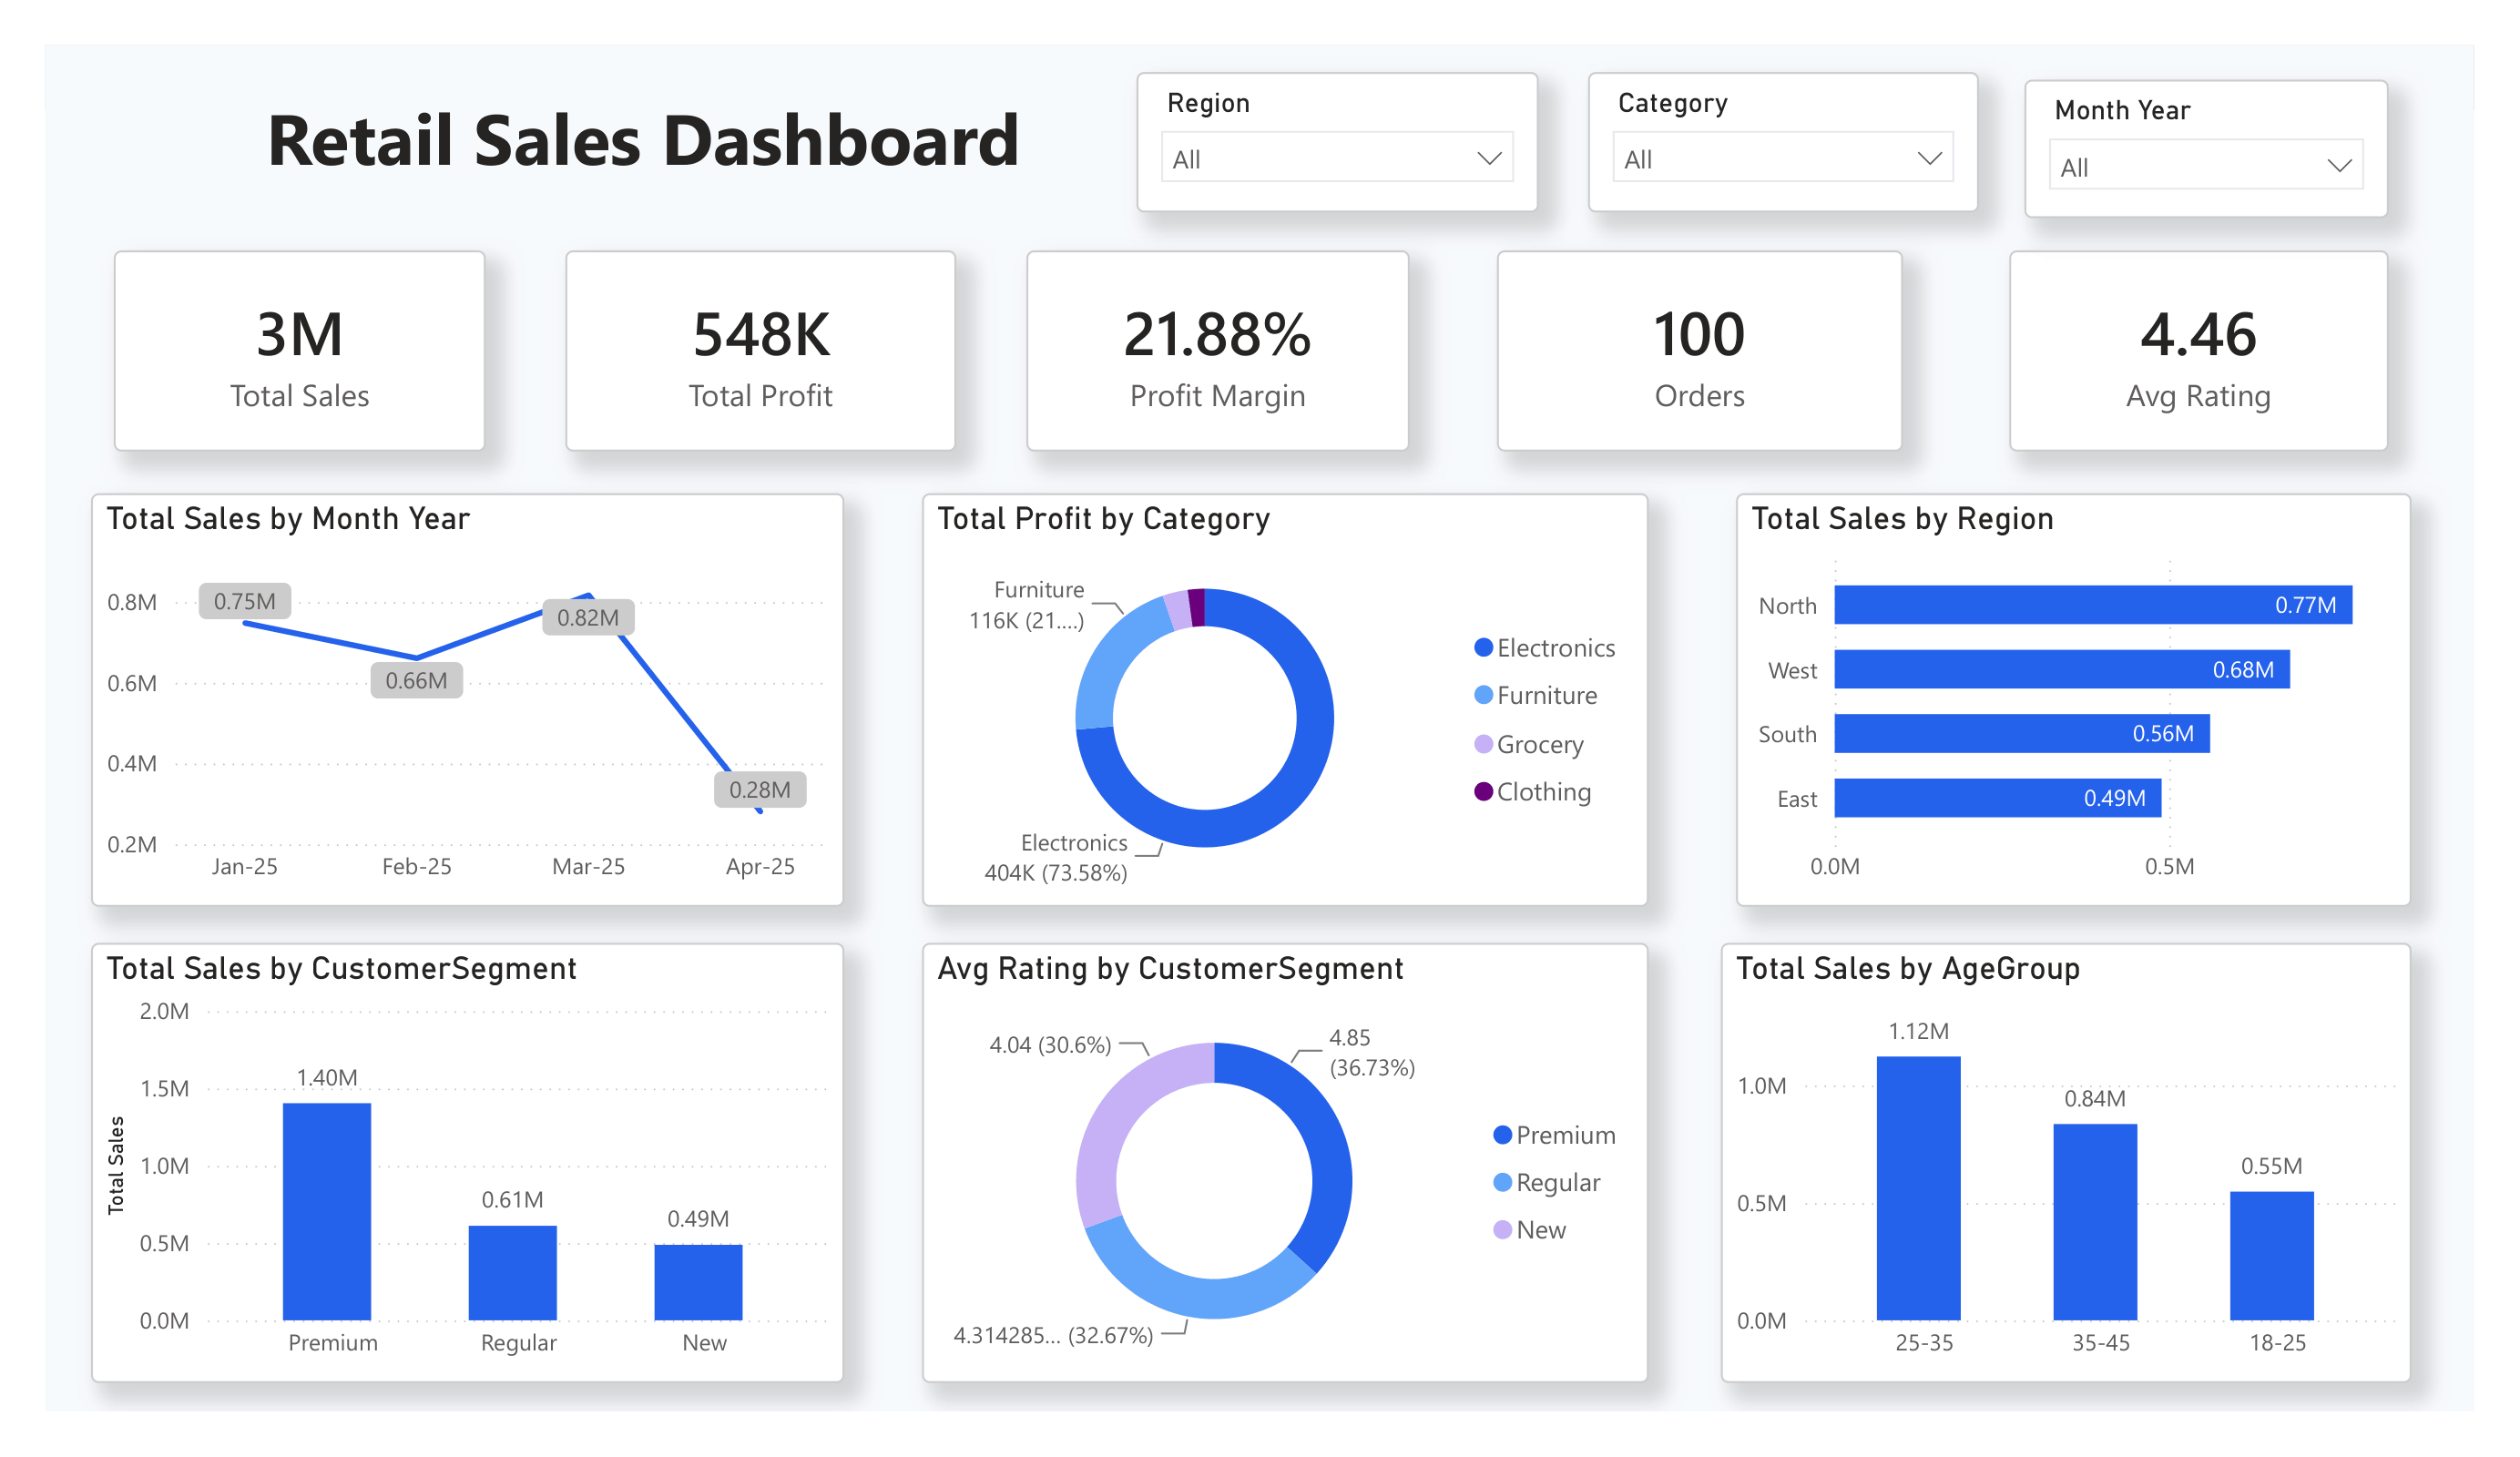

What the dashboard file says about the page in this screenshot:
{"tool":"powerbi","page":{"name":"Overview","canvas":[1280,720],"ordinal":0},"visuals":[{"type":"cardVisual","fields":{"Data":["Measure.Total Sales"]},"box":[36,108,196.5,106],"z":0},{"type":"cardVisual","fields":{"Data":["Measure.Total Profit"]},"box":[274.3,108,206.2,106],"z":1000},{"type":"cardVisual","fields":{"Data":["Measure.Profit Margin"]},"box":[517.4,108,201.3,106],"z":2000},{"type":"cardVisual","fields":{"Data":["Measure.Orders"]},"box":[765.5,108,214,106],"z":3000},{"type":"cardVisual","fields":{"Data":["Measure.Avg Rating"]},"box":[1034.9,108,200.4,106],"z":4000},{"type":"lineChart","fields":{"Y":["Measure.Total Sales"],"Category":["DateTable.Month Year"]},"box":[24.3,236.4,396.8,217.9],"z":5000},{"type":"donutChart","fields":{"Y":["Measure.Total Profit"],"Category":["PROD_MASTER.Category"]},"box":[462,236.4,383.2,217.9],"z":6000},{"type":"clusteredBarChart","fields":{"Category":["CUST_MASTER.Region"],"Y":["Measure.Total Sales"]},"box":[890.9,236.4,356,217.9],"z":7000},{"type":"clusteredColumnChart","fields":{"Category":["CUST_MASTER.CustomerSegment"],"Y":["Measure.Total Sales"]},"box":[24.3,472.7,396.8,232.5],"z":8000},{"type":"donutChart","fields":{"Category":["CUST_MASTER.CustomerSegment"],"Y":["Measure.Avg Rating"]},"box":[462,472.7,383.2,232.5],"z":9000},{"type":"clusteredColumnChart","fields":{"Category":["CUST_MASTER.AgeGroup"],"Y":["Measure.Total Sales"]},"box":[883.2,472.7,363.8,232.5],"z":10000},{"type":"slicer","fields":{"Values":["DateTable.Month Year"]},"box":[1042.7,17.5,192.6,73.9],"z":11000},{"type":"slicer","fields":{"Values":["PROD_MASTER.Category"]},"box":[813.1,13.6,206.2,73.9],"z":12000},{"type":"slicer","fields":{"Values":["CUST_MASTER.Region"]},"box":[574.8,13.6,212,73.9],"z":13000},{"type":"textbox","box":[110.9,17.5,435.7,70],"z":14000}]}

Visuals, with their boxes on the page's 1280x720 design canvas (x1, y1, x2, y2). These are canvas units, not pixel positions in the 2520x1457 screenshot, which may show the page scaled, cropped or inside an application window:
cardVisual - Measure.Total Sales: l=36, t=108, r=232, b=214
cardVisual - Measure.Total Profit: l=274, t=108, r=480, b=214
cardVisual - Measure.Profit Margin: l=517, t=108, r=719, b=214
cardVisual - Measure.Orders: l=766, t=108, r=980, b=214
cardVisual - Measure.Avg Rating: l=1035, t=108, r=1235, b=214
lineChart - Measure.Total Sales x DateTable.Month Year: l=24, t=236, r=421, b=454
donutChart - Measure.Total Profit x PROD_MASTER.Category: l=462, t=236, r=845, b=454
clusteredBarChart - CUST_MASTER.Region x Measure.Total Sales: l=891, t=236, r=1247, b=454
clusteredColumnChart - CUST_MASTER.CustomerSegment x Measure.Total Sales: l=24, t=473, r=421, b=705
donutChart - CUST_MASTER.CustomerSegment x Measure.Avg Rating: l=462, t=473, r=845, b=705
clusteredColumnChart - CUST_MASTER.AgeGroup x Measure.Total Sales: l=883, t=473, r=1247, b=705
slicer - DateTable.Month Year: l=1043, t=18, r=1235, b=91
slicer - PROD_MASTER.Category: l=813, t=14, r=1019, b=88
slicer - CUST_MASTER.Region: l=575, t=14, r=787, b=88
textbox: l=111, t=18, r=547, b=88
